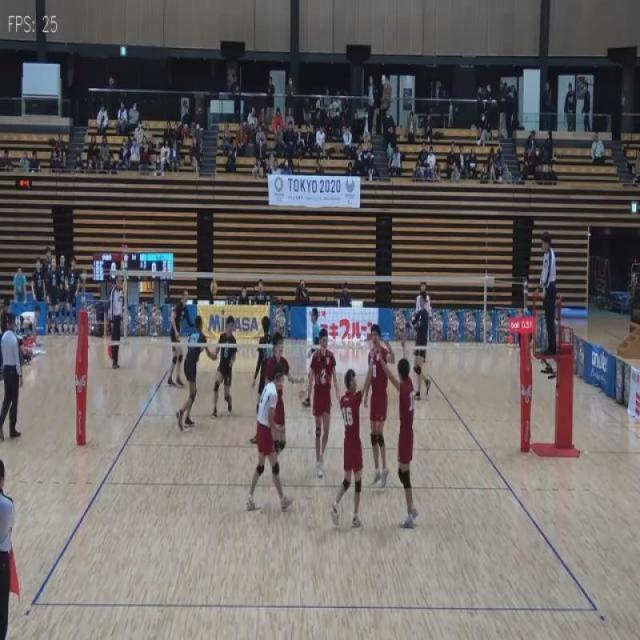volleyball: (210, 280, 218, 294)
